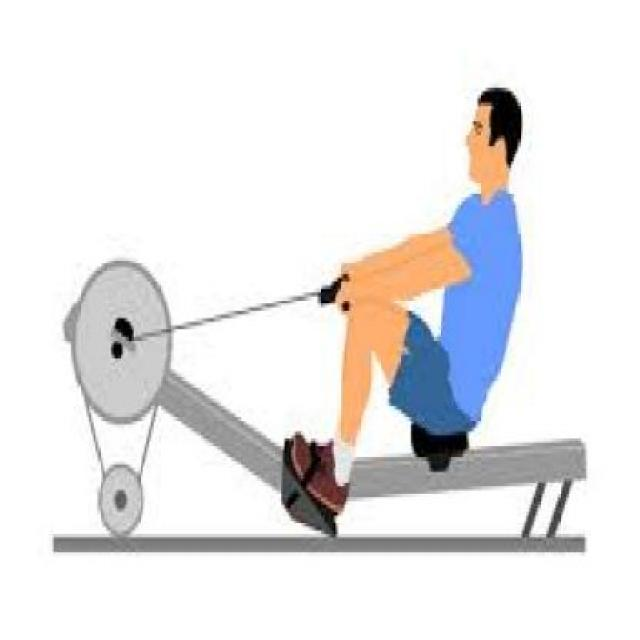Seated Cable Rows: (43, 62, 592, 576)
